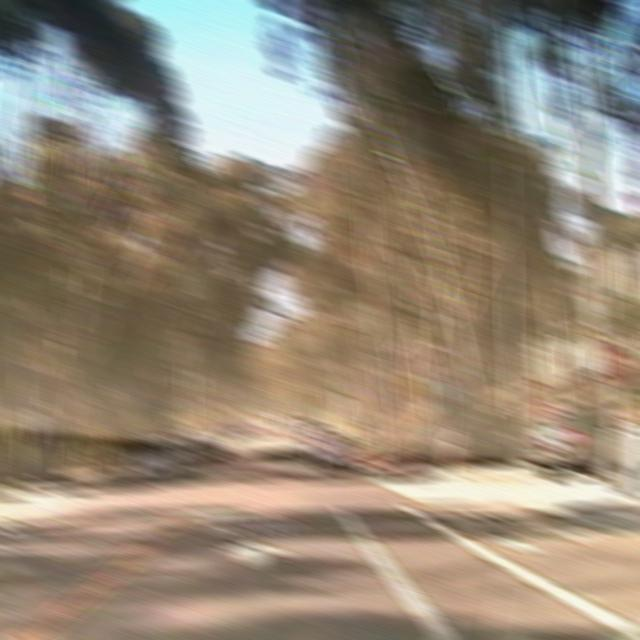stop_sign: (598, 340, 633, 384)
